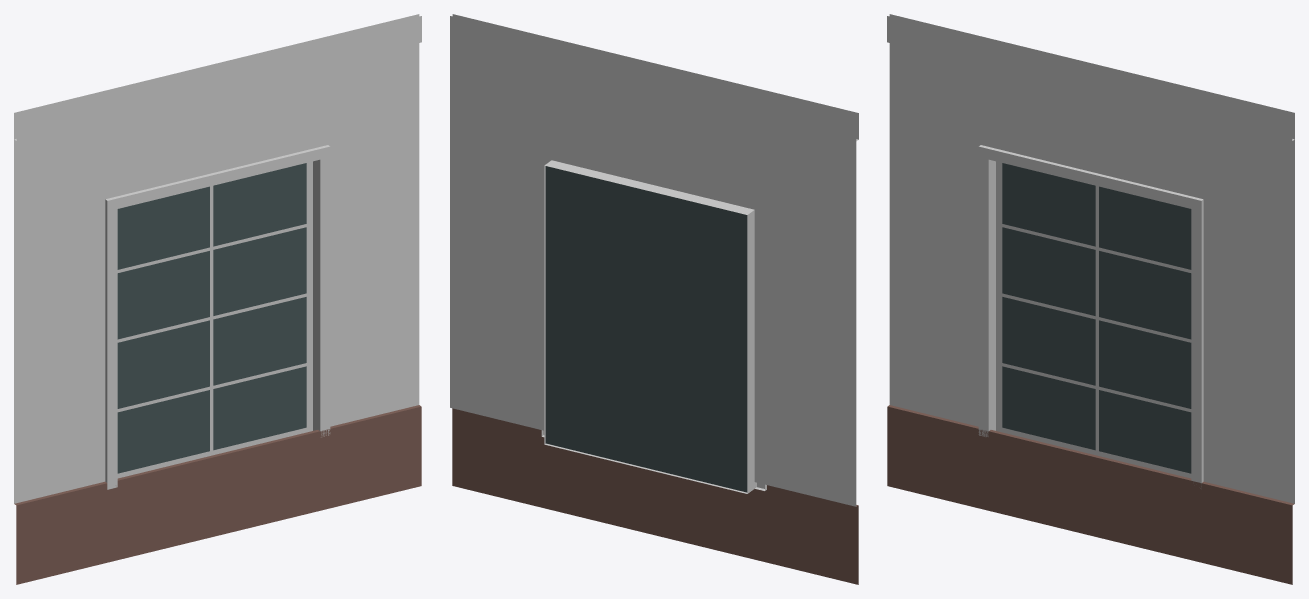
3 renders of one model, left to right at view 1: azimuth 30°, elevation 25°; view 2: azimuth 150°, elevation 25°; view 3: azimuth 330°, elevation 25°, orthographic.
Parts seen in each view (by area): view 1: a2000/600/base-w3; view 2: a2000/600/base-w3; view 3: a2000/600/base-w3.
Boxes of the visible parts, x1=… form: a2000/600/base-w3: x1=14, y1=14, x2=421, y2=584; a2000/600/base-w3: x1=450, y1=14, x2=858, y2=584; a2000/600/base-w3: x1=887, y1=14, x2=1294, y2=584.
Size of the model in its own units: 3.2 by 3.55 by 0.135.
